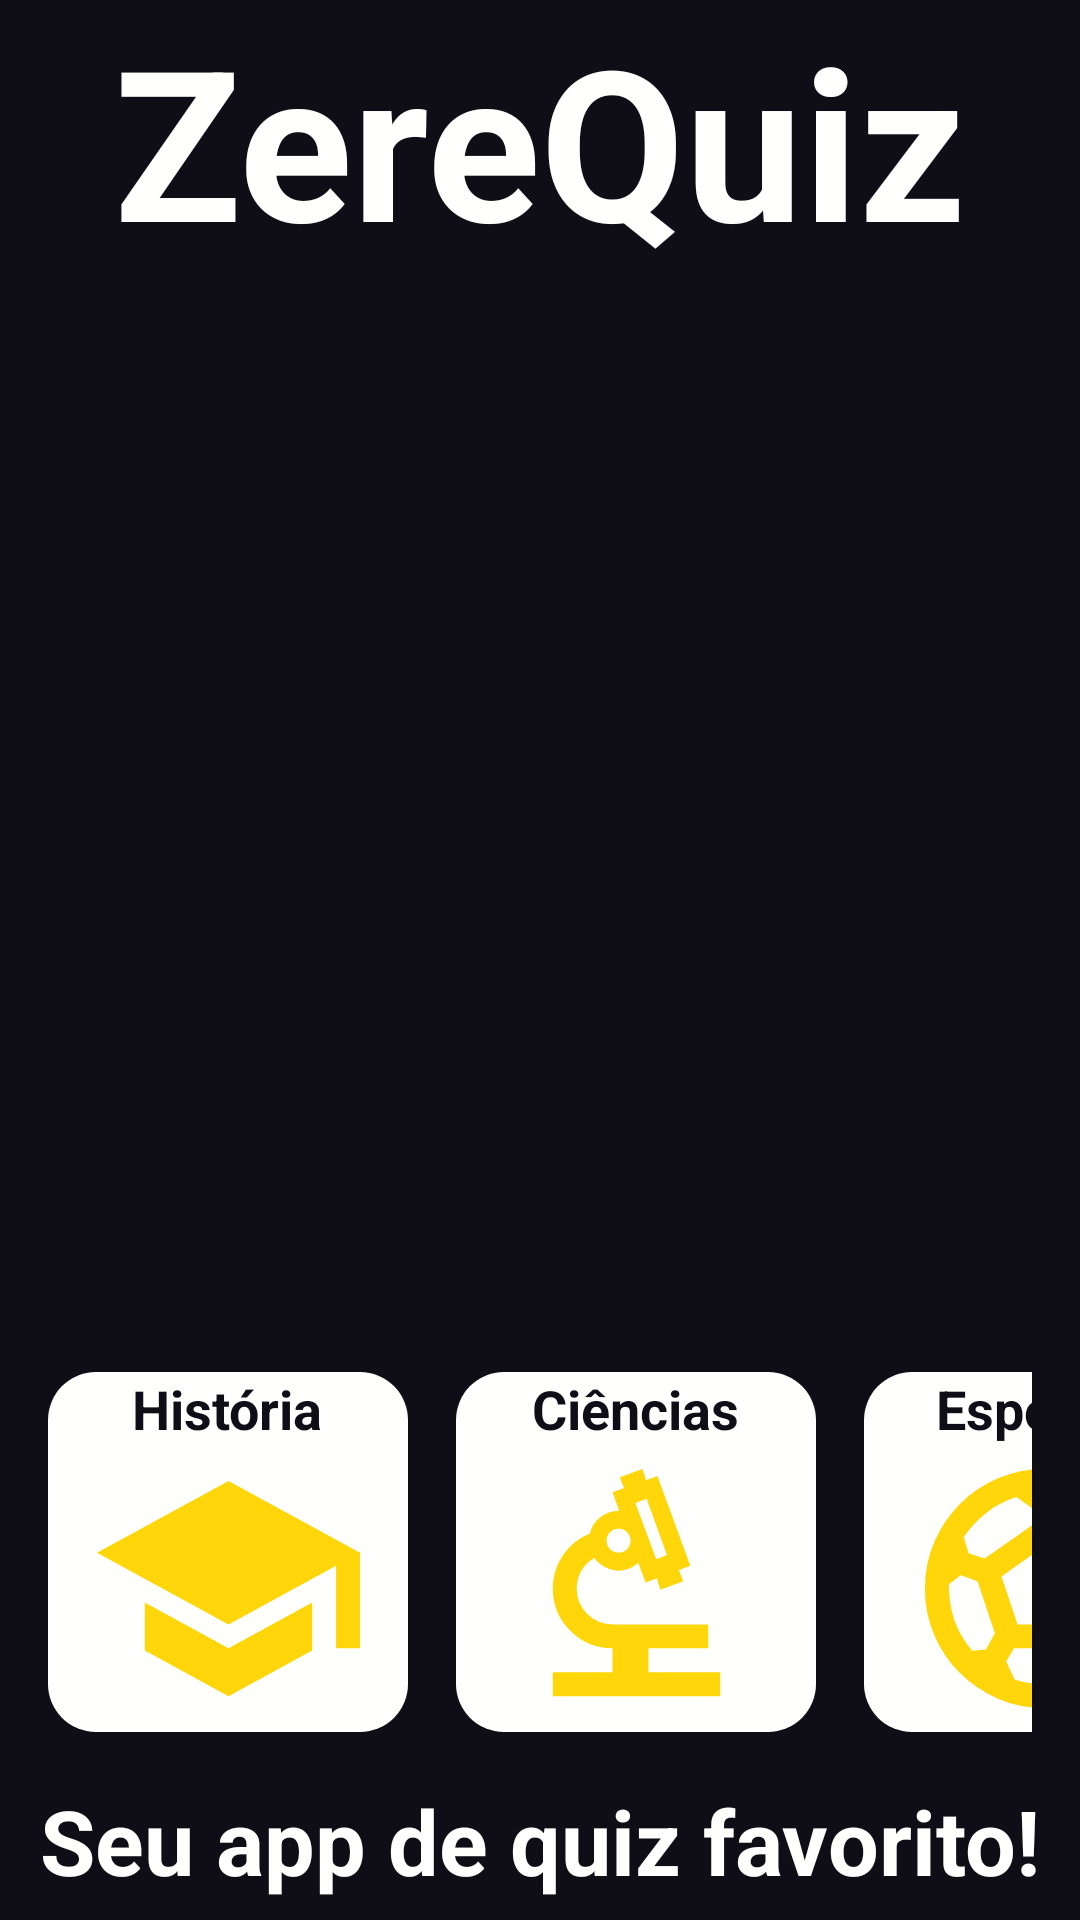

Point at icon controls on the screen. Image size 1080x1920, points as point (x, y).
school: point (228, 1588)
